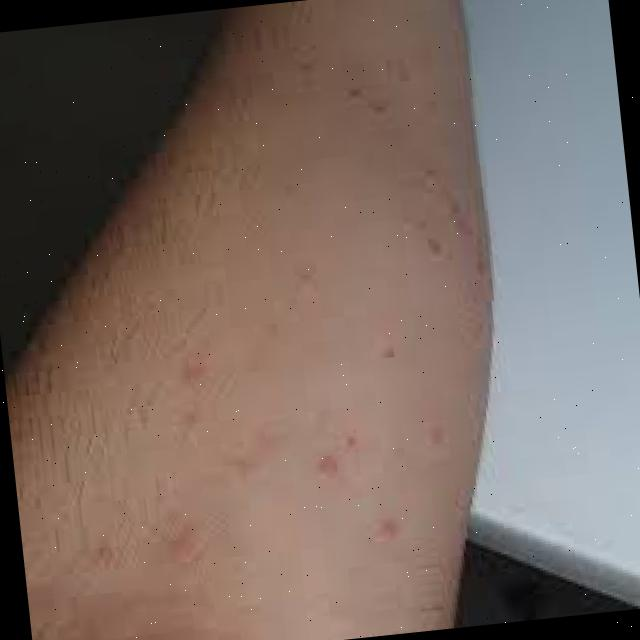kan emici bocekler: (153, 513, 209, 576), (358, 516, 403, 560), (310, 438, 346, 488)
